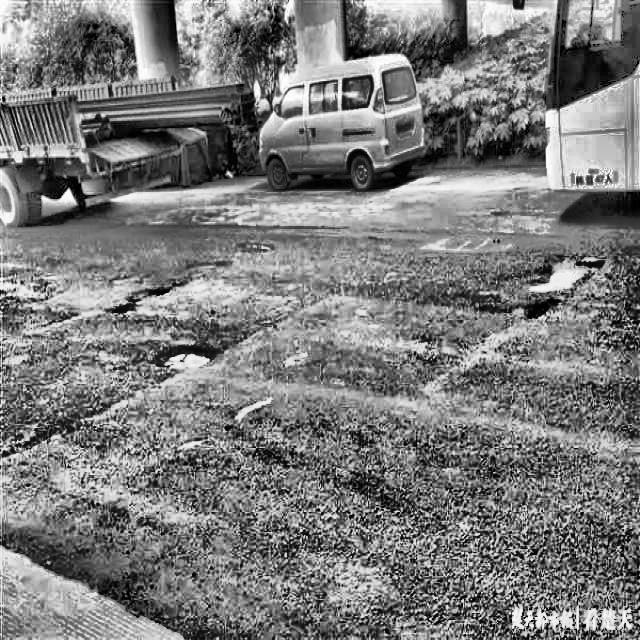buraco: (526, 260, 600, 294), (112, 282, 170, 318), (156, 346, 214, 372), (528, 303, 550, 320)
